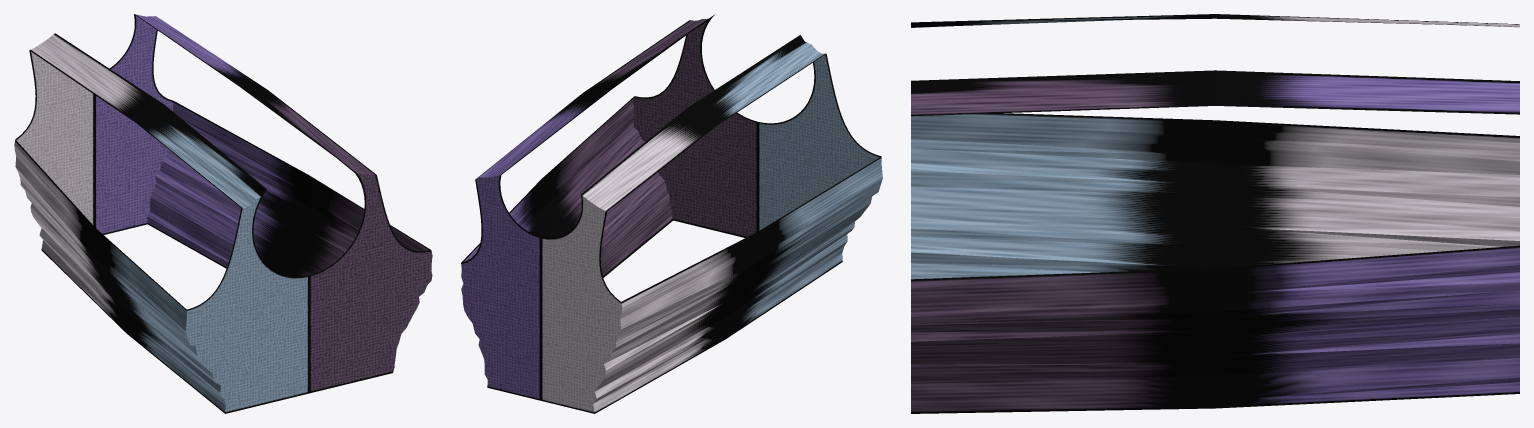
The model's file is tank_knit3_boxmesh.obj.
3 renders of one model, left to right at view 1: azimuth 30°, elevation 25°; view 2: azimuth 150°, elevation 25°; view 3: azimuth 270°, elevation 25°, orthographic. The views are drawn at different scales.
Bounding box in the file's own units: 36.57 × 31.16 × 55.
1 material, 1 textured.
